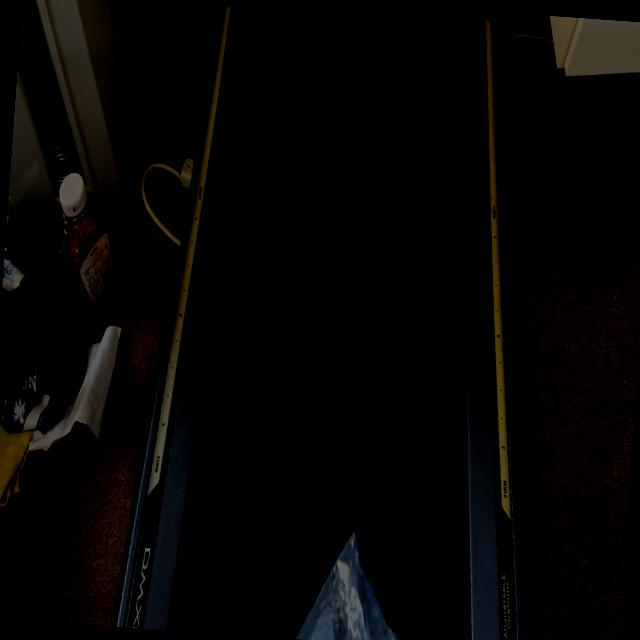Recycle: (289, 524, 414, 640)
